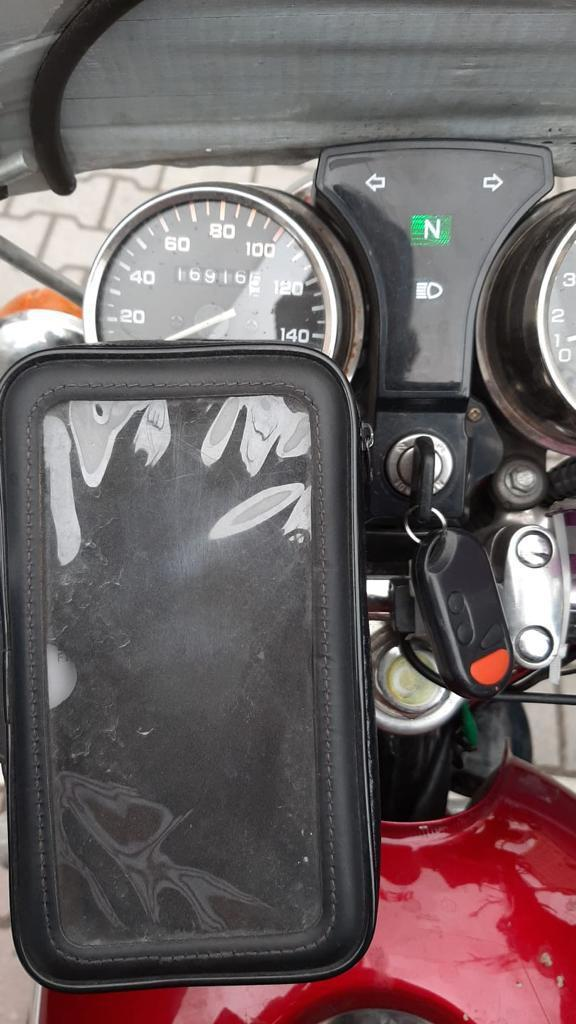1: (223, 267, 228, 287), (177, 265, 181, 282)
5: (250, 273, 261, 288)
6: (234, 268, 245, 284), (189, 266, 200, 281)
9: (204, 268, 215, 283)
odometer: (173, 263, 263, 298)
